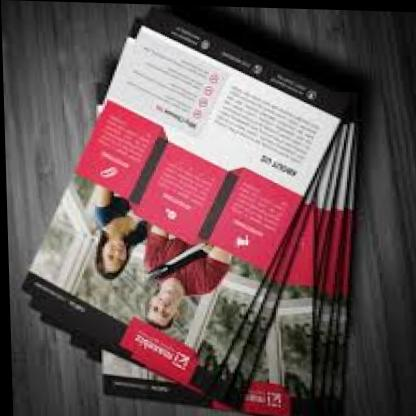Paper: (8, 10, 416, 416)
